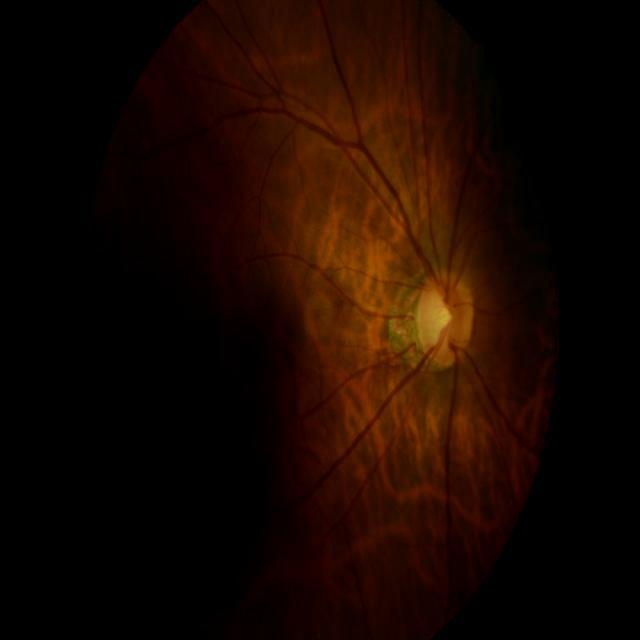cup: (419, 288, 452, 352)
disk: (416, 272, 476, 366)
